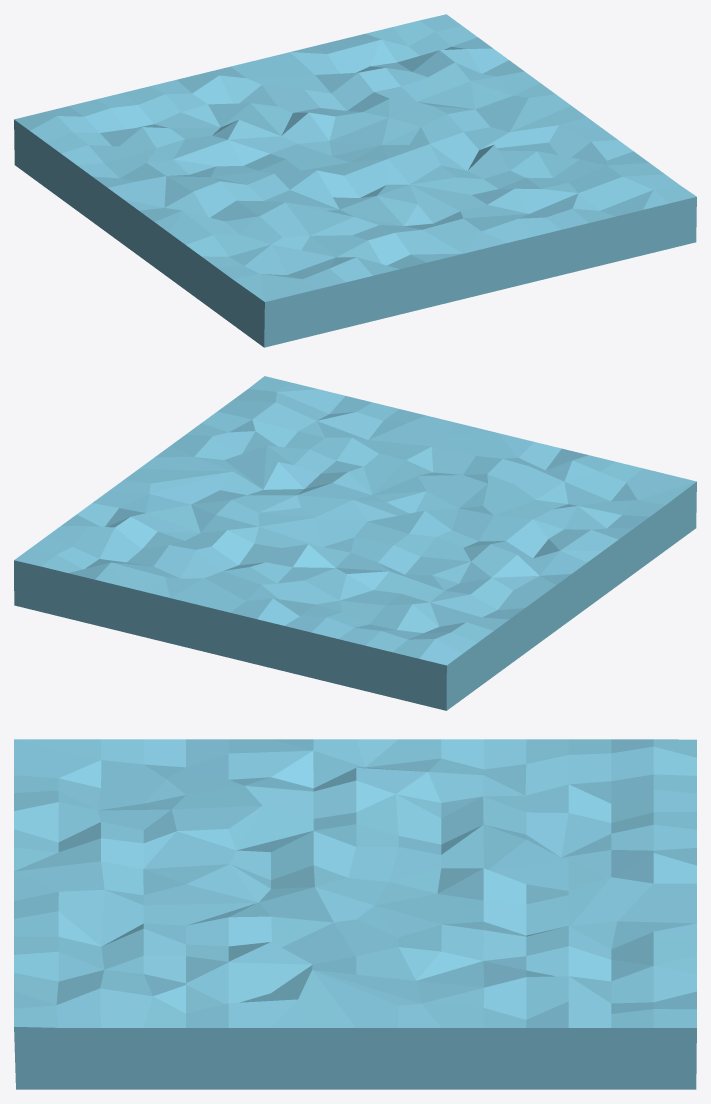
File: sea-cubes.fbx
3 views of the same model, one above another, from view 1: azimuth 30°, elevation 25°; view 2: azimuth 150°, elevation 25°; view 3: azimuth 270°, elevation 25° (orthographic). The views are drawn at different scales.
Parts seen in each view (by area): view 1: Plane; view 2: Plane; view 3: Plane.
Part boxes in pixels (bbox=[...]): Plane: bbox=[14, 14, 696, 347]; Plane: bbox=[14, 376, 696, 710]; Plane: bbox=[14, 739, 696, 1089].
Size of the model in its own units: 100117 by 12809 by 100400.
